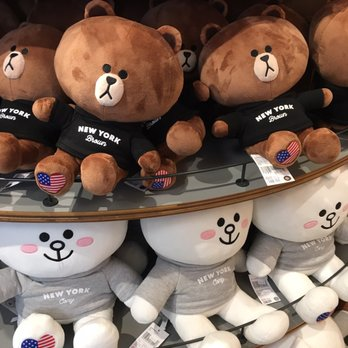line_brown: (53, 2, 194, 125), (185, 6, 315, 104)
